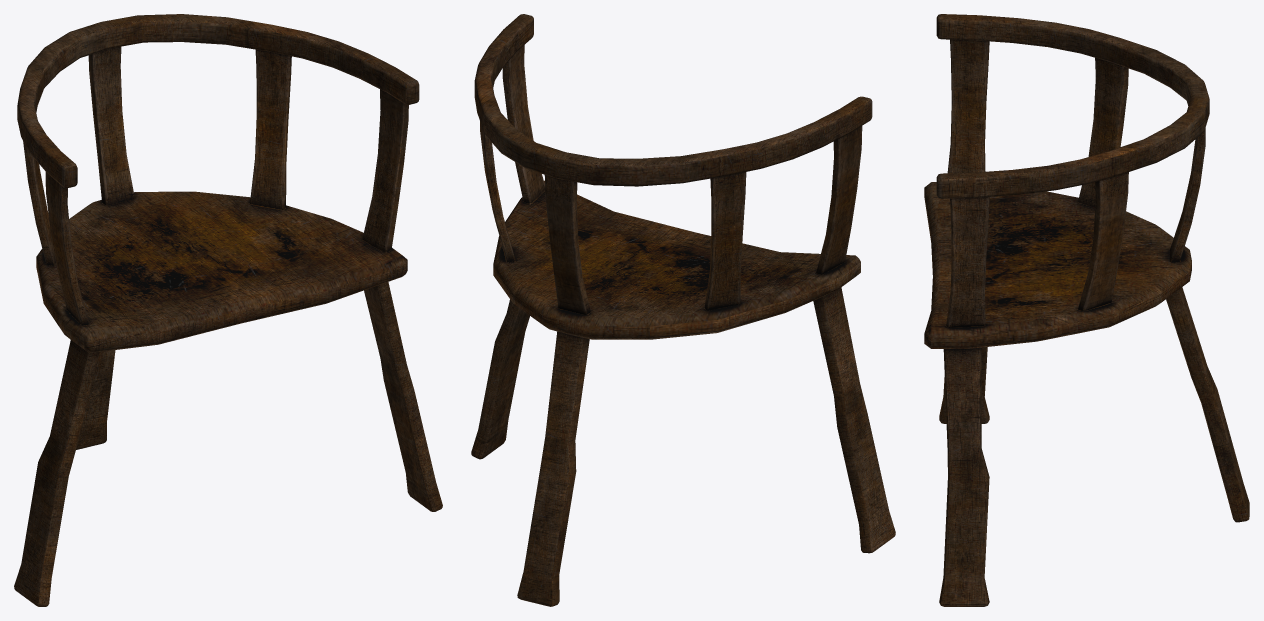
File: FancyChair_M.fbx
The picture shows the model from 3 angles, left to right: view 1: azimuth 30°, elevation 25°; view 2: azimuth 150°, elevation 25°; view 3: azimuth 270°, elevation 25°; orthographic projection. The views are drawn at different scales.
Visible parts, largest first — view 1: RichHouseAssets:FancyChair_Mesh1; view 2: RichHouseAssets:FancyChair_Mesh1; view 3: RichHouseAssets:FancyChair_Mesh1.
Boxes of the visible parts, x1=… form: RichHouseAssets:FancyChair_Mesh1: x1=14, y1=14, x2=442, y2=606; RichHouseAssets:FancyChair_Mesh1: x1=471, y1=14, x2=895, y2=606; RichHouseAssets:FancyChair_Mesh1: x1=924, y1=14, x2=1249, y2=606.
Bounding box in the file's own units: 85.86 × 88.4 × 62.18.
